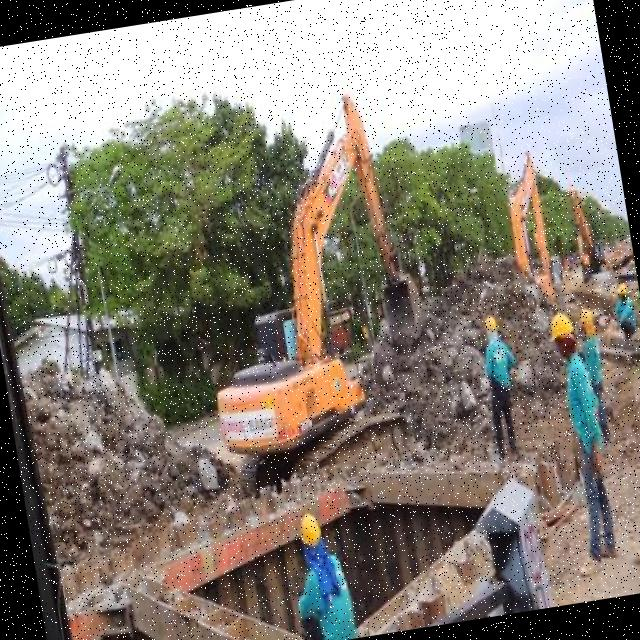Excavator: (169, 80, 451, 498), (498, 146, 574, 312), (564, 175, 610, 278)
